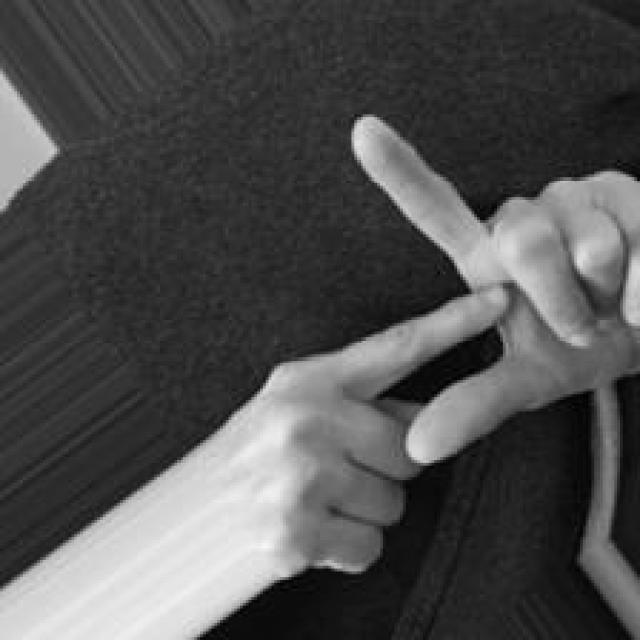J: (265, 105, 640, 574)
